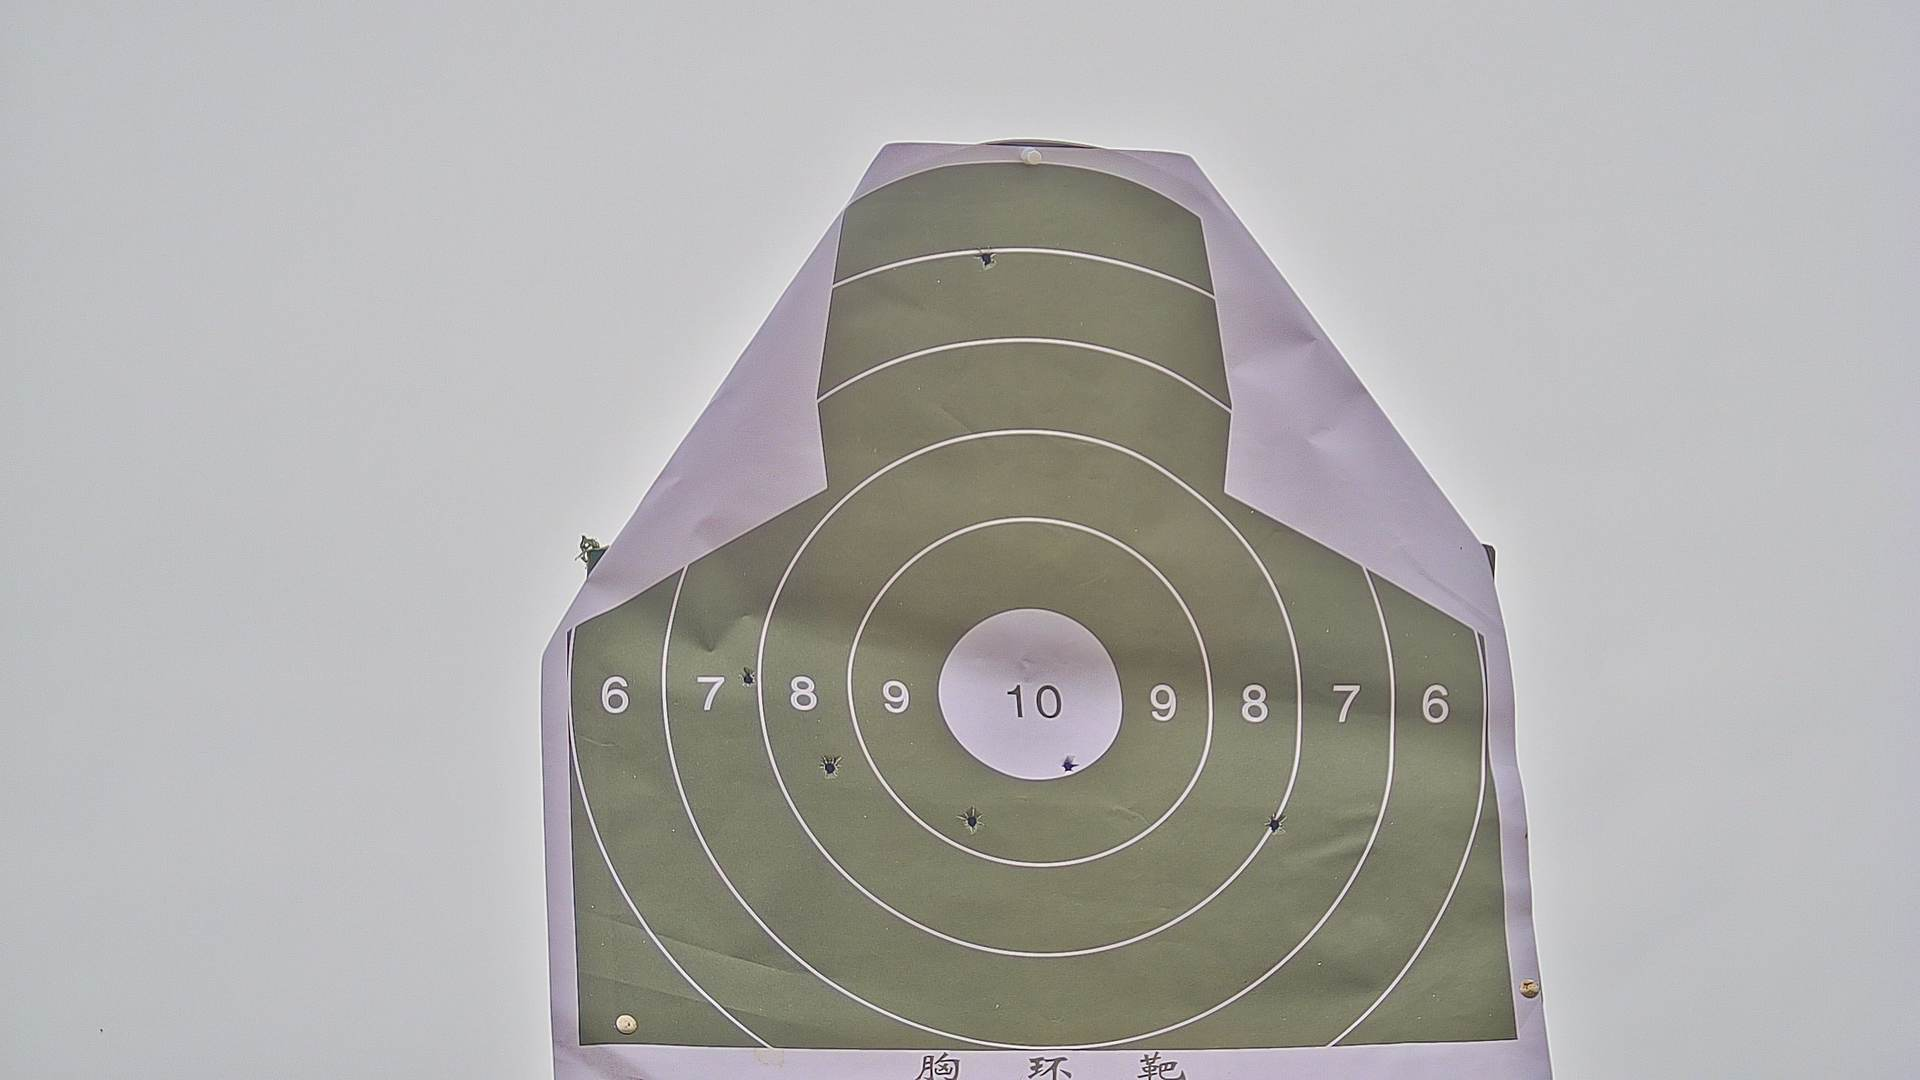hole: (956, 803, 984, 837), (818, 752, 847, 781), (1265, 808, 1288, 843), (975, 247, 1000, 272), (735, 665, 760, 688), (1056, 752, 1081, 773)
kernel: (1023, 702, 1038, 705)
target: (567, 161, 1523, 1044)
ten: (939, 607, 1122, 785)
